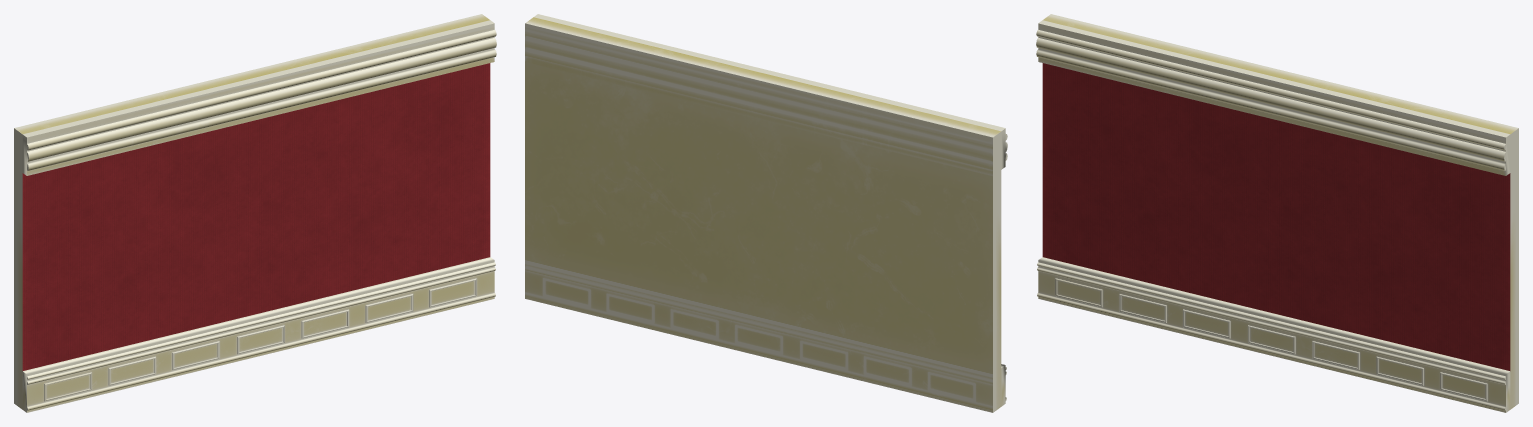
Rendered from wall.fbx.
3 renders of one model, left to right at view 1: azimuth 30°, elevation 25°; view 2: azimuth 150°, elevation 25°; view 3: azimuth 330°, elevation 25°, orthographic.
Visible parts, largest first — view 1: wall2; view 2: wall2; view 3: wall2.
Part boxes in pixels (<box>): wall2: <box>14,14,496,412</box>; wall2: <box>525,14,1007,412</box>; wall2: <box>1036,14,1518,412</box>.
Size of the model in its own units: 1600 by 900 by 88.42.
